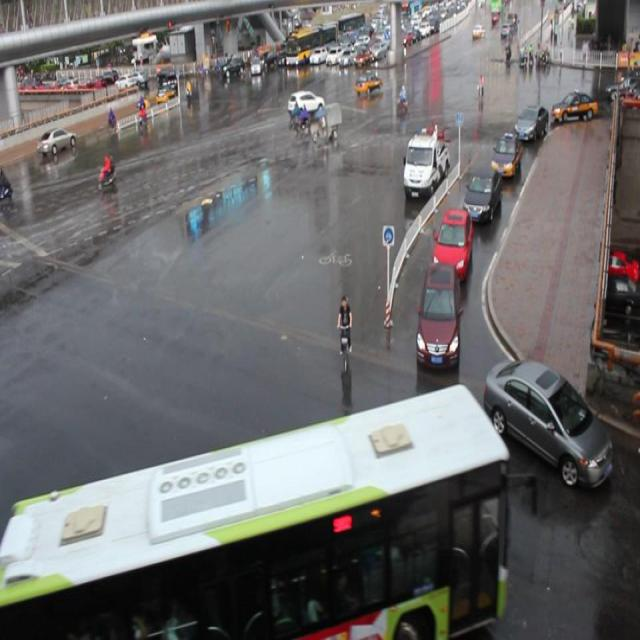bus: (401, 127, 448, 200)
car: (484, 356, 611, 484), (415, 261, 459, 367), (431, 206, 472, 282), (463, 166, 500, 223), (490, 130, 520, 178), (514, 104, 547, 140), (288, 90, 325, 120)
van: (0, 392, 502, 640)
